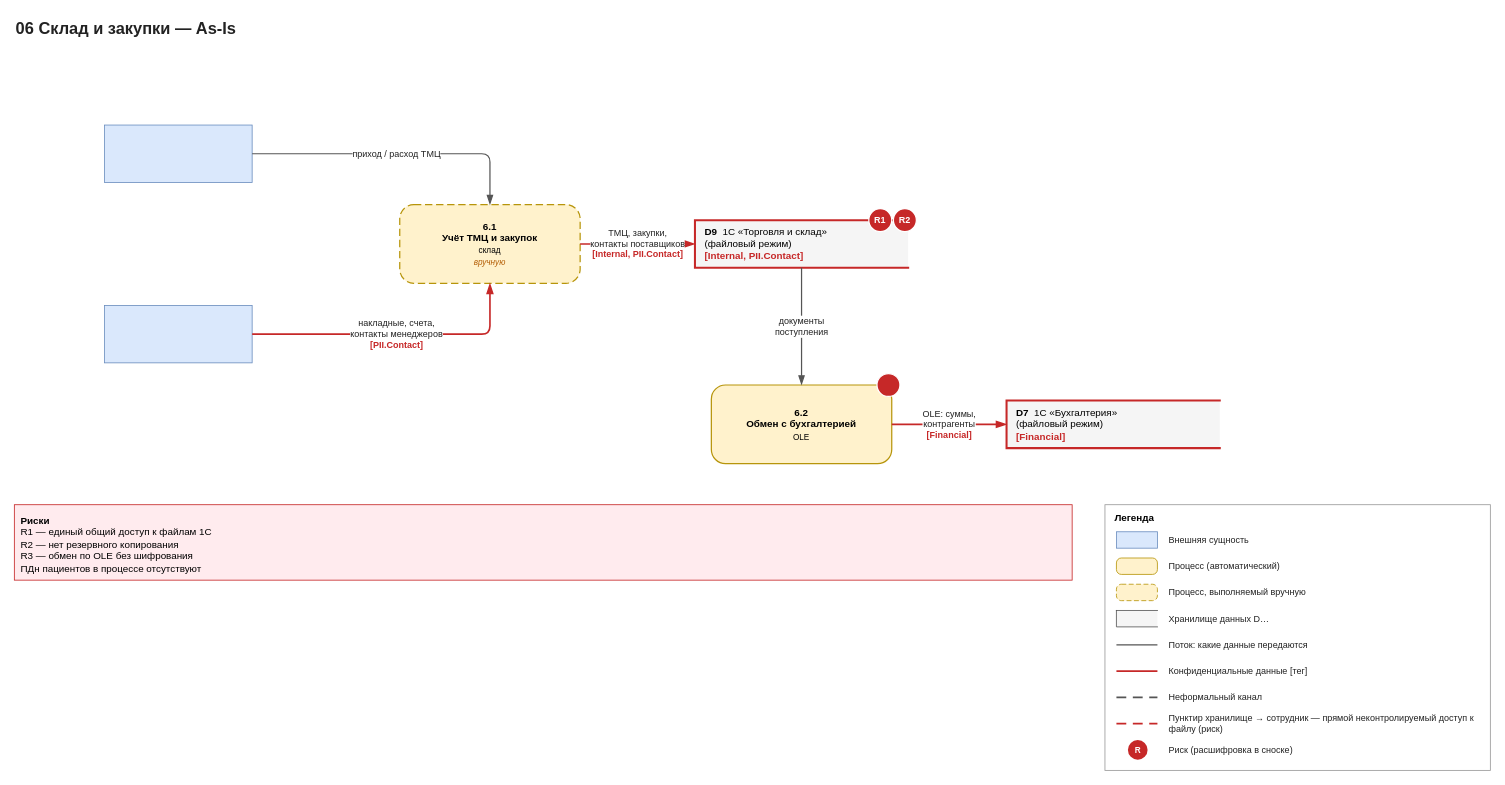
This 1505x785 diagram has some shape labels left out. Here are the shapes that lost their labels. From the top down, the box of each, then its label:
(104, 124, 252, 182): Сотрудник склада
(104, 305, 252, 363): Поставщик
(876, 373, 900, 397): R3
